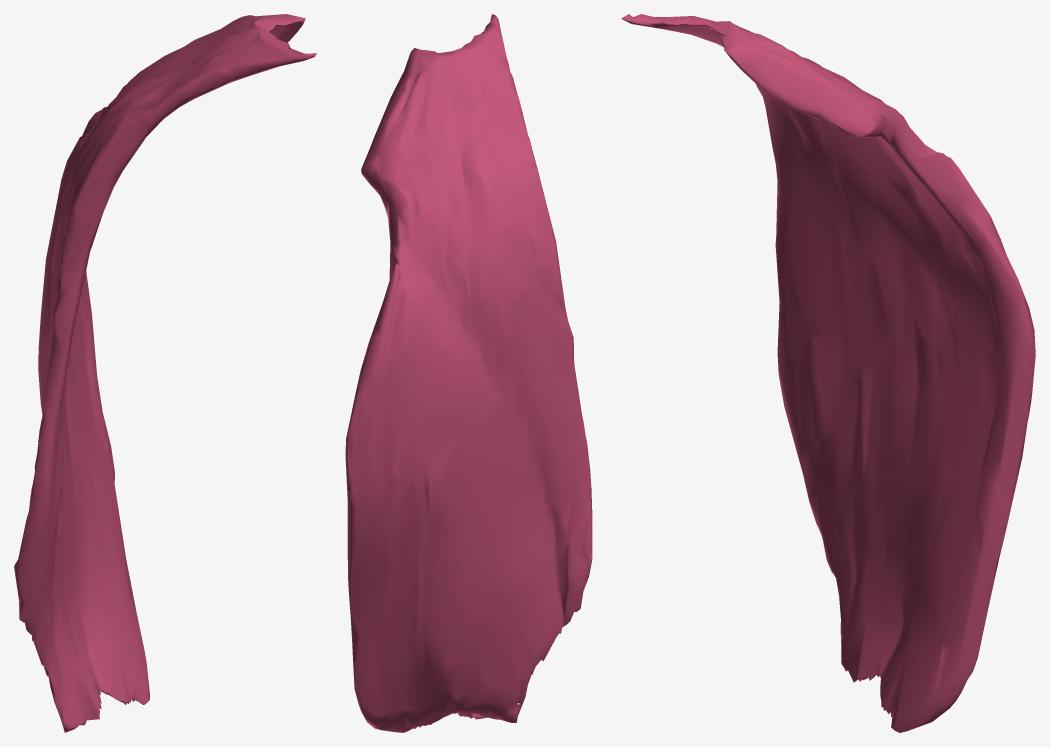
3 views of the same model, side by side, from view 1: azimuth 30°, elevation 25°; view 2: azimuth 150°, elevation 25°; view 3: azimuth 270°, elevation 25° (orthographic). The views are drawn at different scales.
Visible parts, largest first — view 1: 右侧耻尾肌; view 2: 右侧耻尾肌; view 3: 右侧耻尾肌.
Boxes of the visible parts, box(x1,y1,x2,y2) form: 右侧耻尾肌: box(14, 14, 316, 732); 右侧耻尾肌: box(345, 14, 592, 732); 右侧耻尾肌: box(621, 14, 1035, 732).
Bounding box in the file's own units: 0.0491 × 0.1378 × 0.0712.
